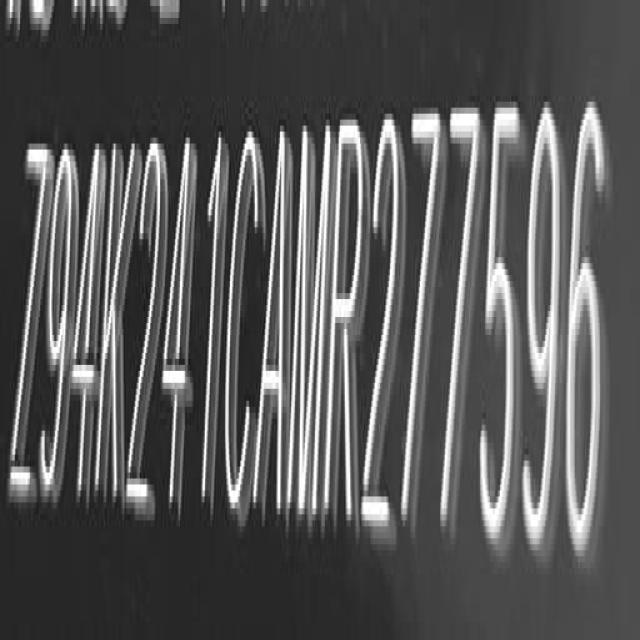1: (200, 134, 224, 527)
2: (364, 98, 399, 539), (130, 130, 163, 521)
4: (161, 113, 194, 521), (71, 141, 97, 513)
5: (484, 92, 517, 557)
6: (566, 100, 603, 554)
7: (440, 102, 482, 543), (409, 98, 442, 552)
9: (524, 94, 562, 561), (44, 136, 72, 514)
A: (257, 124, 288, 536)
C: (222, 130, 260, 520)
K: (94, 126, 136, 521)
M: (287, 118, 333, 540)
R: (328, 100, 364, 538)
Z: (15, 140, 44, 518)
